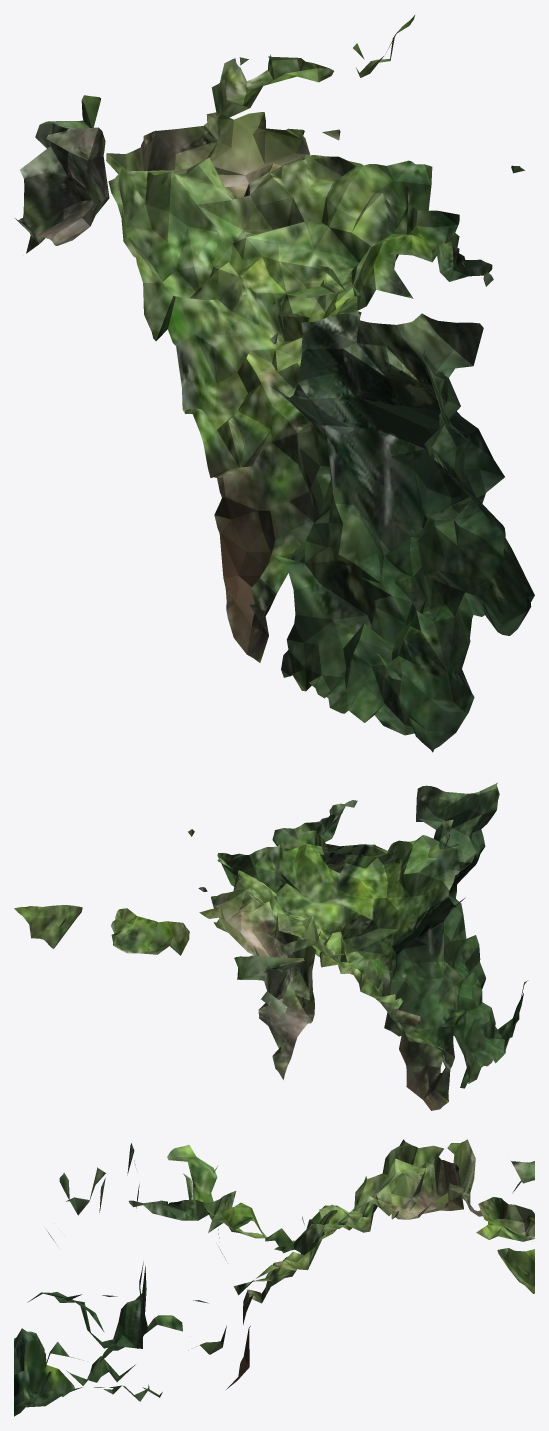
3 renders of one model, top to bottom at view 1: azimuth 30°, elevation 25°; view 2: azimuth 150°, elevation 25°; view 3: azimuth 270°, elevation 25°, orthographic. The views are drawn at different scales.
Size of the model in its own units: 16.17 by 14.52 by 26.11.
Materials: 2 (2 with a texture image).
